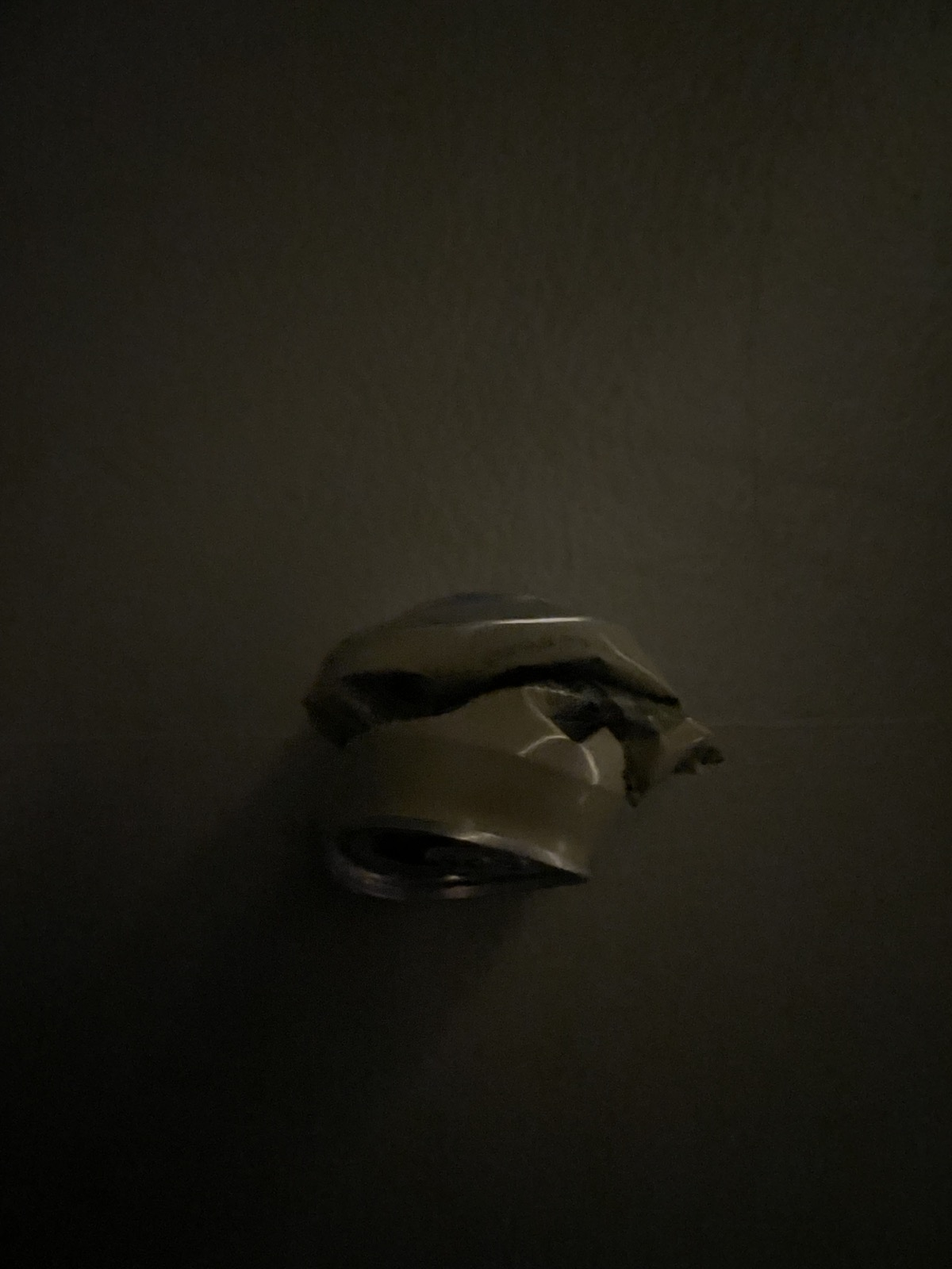pantburk: (300, 564, 734, 932)
